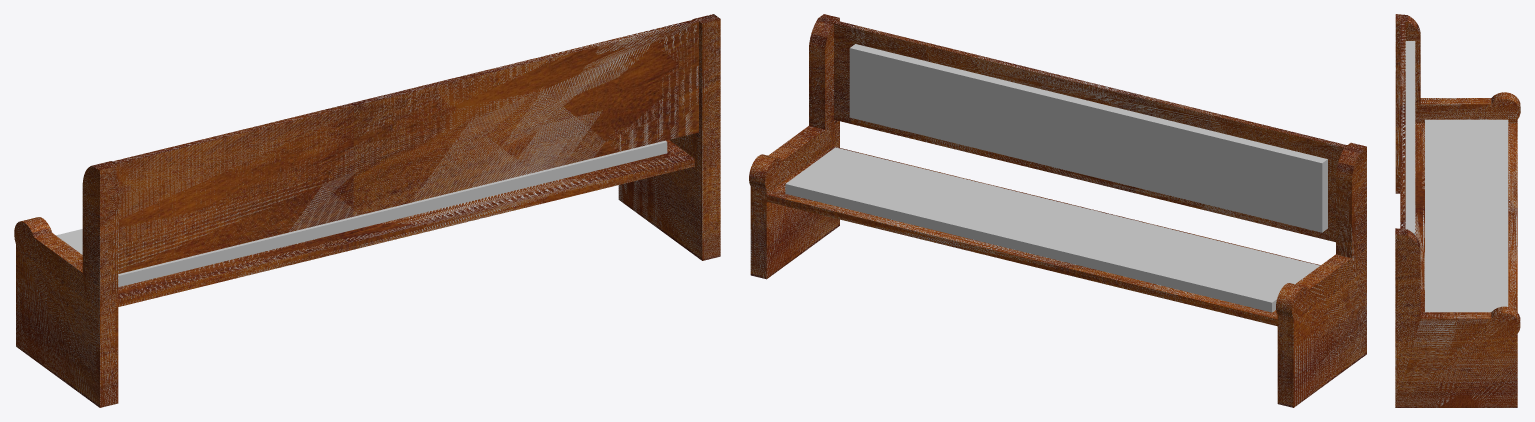
3 renders of one model, left to right at view 1: azimuth 30°, elevation 25°; view 2: azimuth 150°, elevation 25°; view 3: azimuth 270°, elevation 25°, orthographic. The views are drawn at different scales.
Parts seen in each view (by area): view 1: mesh2_mesh2-geometry, mesh1_mesh1-geometry; view 2: mesh1_mesh1-geometry, mesh2_mesh2-geometry; view 3: mesh1_mesh1-geometry, mesh2_mesh2-geometry.
Part boxes in pixels (bbox=[...]): mesh2_mesh2-geometry: bbox=[107, 17, 703, 273]; mesh1_mesh1-geometry: bbox=[14, 14, 720, 407]; mesh1_mesh1-geometry: bbox=[749, 14, 1366, 407]; mesh2_mesh2-geometry: bbox=[829, 20, 1350, 242]; mesh1_mesh1-geometry: bbox=[1395, 14, 1520, 407]; mesh2_mesh2-geometry: bbox=[1400, 19, 1415, 234].
Bounding box in the file's own units: 0.9163 × 0.3351 × 0.2192.
